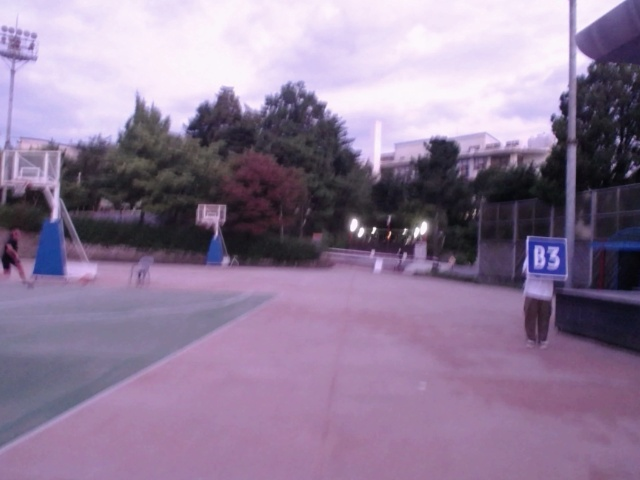delivery_b3: (526, 234, 567, 278)
